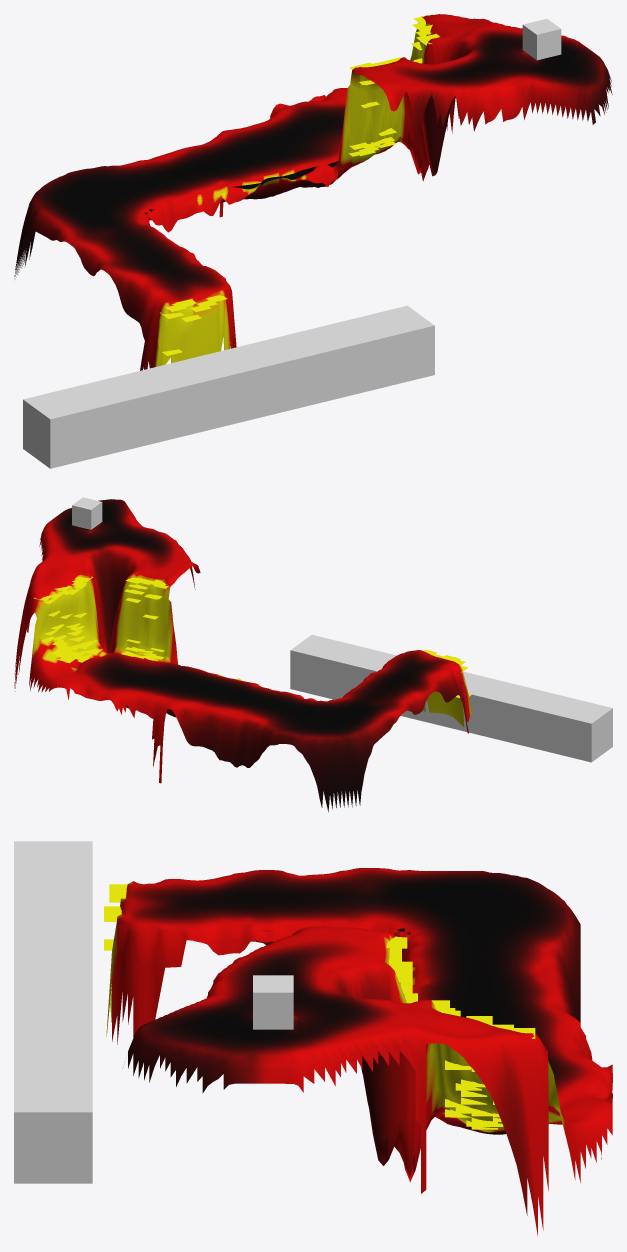
The model's file is floor-02-waterfall-00.fbx.
The picture shows the model from 3 angles, top to bottom: view 1: azimuth 30°, elevation 25°; view 2: azimuth 150°, elevation 25°; view 3: azimuth 270°, elevation 25°; orthographic projection. The views are drawn at different scales.
Visible parts, largest first — view 1: waterfall-00-fluid, Cube.004, Cube.003; view 2: waterfall-00-fluid, Cube.004, Cube.003; view 3: waterfall-00-fluid, Cube.004, Cube.003.
Boxes of the visible parts, x1,y1,x2,y2 form: waterfall-00-fluid: [14, 14, 612, 370]; Cube.004: [23, 305, 434, 468]; Cube.003: [522, 18, 561, 60]; waterfall-00-fluid: [14, 499, 472, 812]; Cube.004: [290, 634, 612, 762]; Cube.003: [72, 497, 102, 529]; waterfall-00-fluid: [104, 868, 612, 1235]; Cube.004: [14, 841, 92, 1183]; Cube.003: [253, 975, 293, 1029].
Size of the model in its own units: 3978 by 1412 by 2264.
